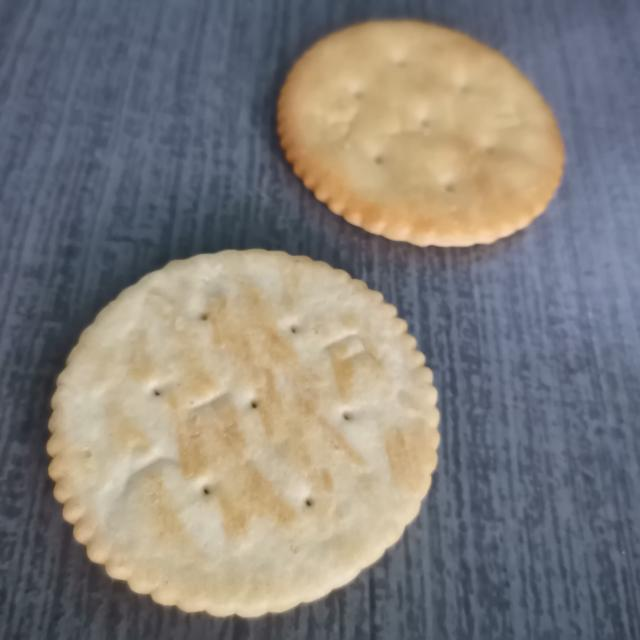Intact: (40, 233, 452, 631), (265, 10, 573, 260)
